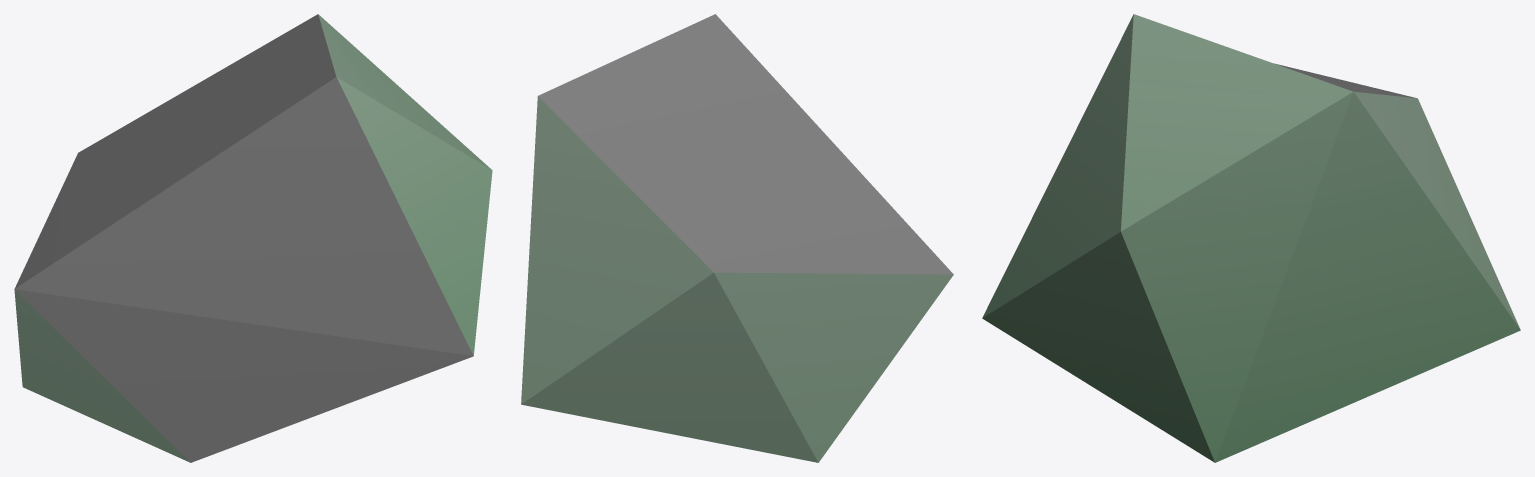
The model's file is rock_tiny_mossy.fbx.
3 renders of one model, left to right at view 1: azimuth 30°, elevation 25°; view 2: azimuth 150°, elevation 25°; view 3: azimuth 270°, elevation 25°, orthographic. The views are drawn at different scales.
Parts seen in each view (by area): view 1: rock_tiny_mossy; view 2: rock_tiny_mossy; view 3: rock_tiny_mossy.
Boxes of the visible parts, box(x1,y1,x2,y2) form: rock_tiny_mossy: box(14, 14, 492, 462); rock_tiny_mossy: box(521, 14, 953, 462); rock_tiny_mossy: box(982, 14, 1520, 462).
Size of the model in its own units: 0.185 by 0.135 by 0.18.
Materials: 1 (1 with a texture image).
